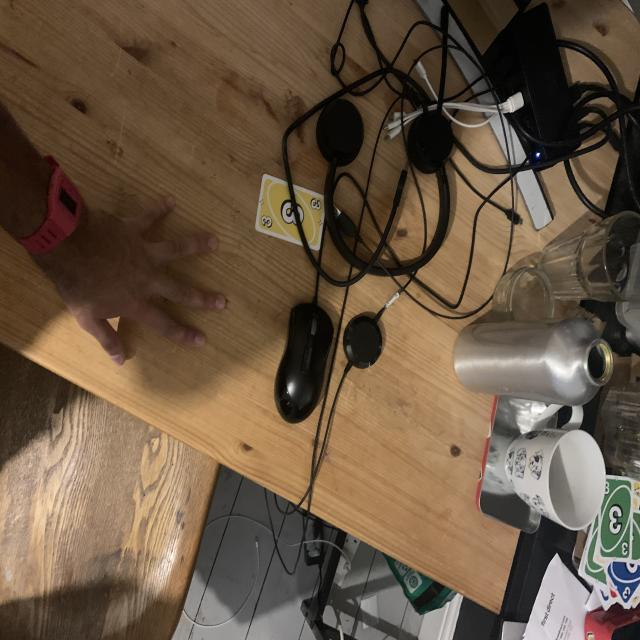lyellow-3: (308, 196, 324, 214)
